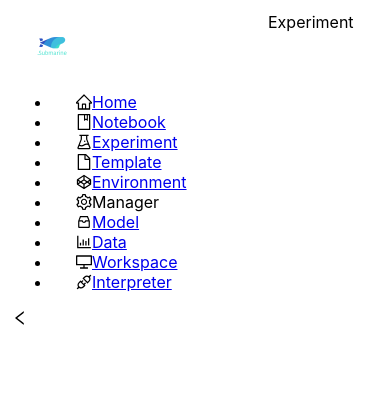
Test: Router test › Department page router
Click the menu item "Manager".
click(118, 202)  # box [76,192,159,212]
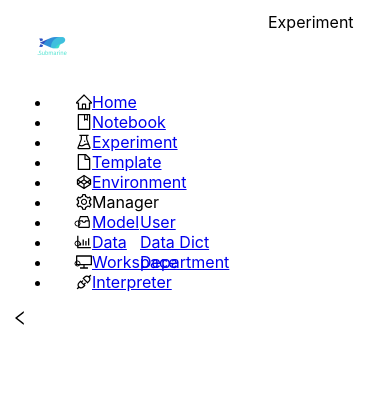
Click the link with test id "department-link".
click(185, 262)  # box [140,252,229,272]
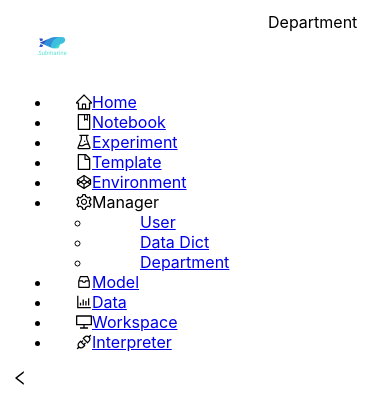
Check: the element with test id "department-page" is shown, box [268,12,357,32]
